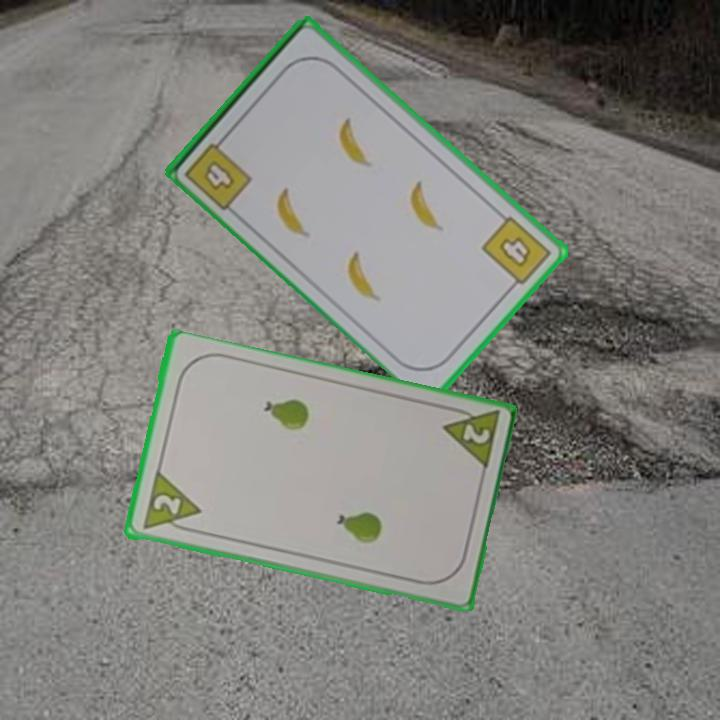2p: (438, 402, 502, 474), (149, 491, 184, 518)
4b: (477, 212, 554, 294), (181, 130, 255, 213)
